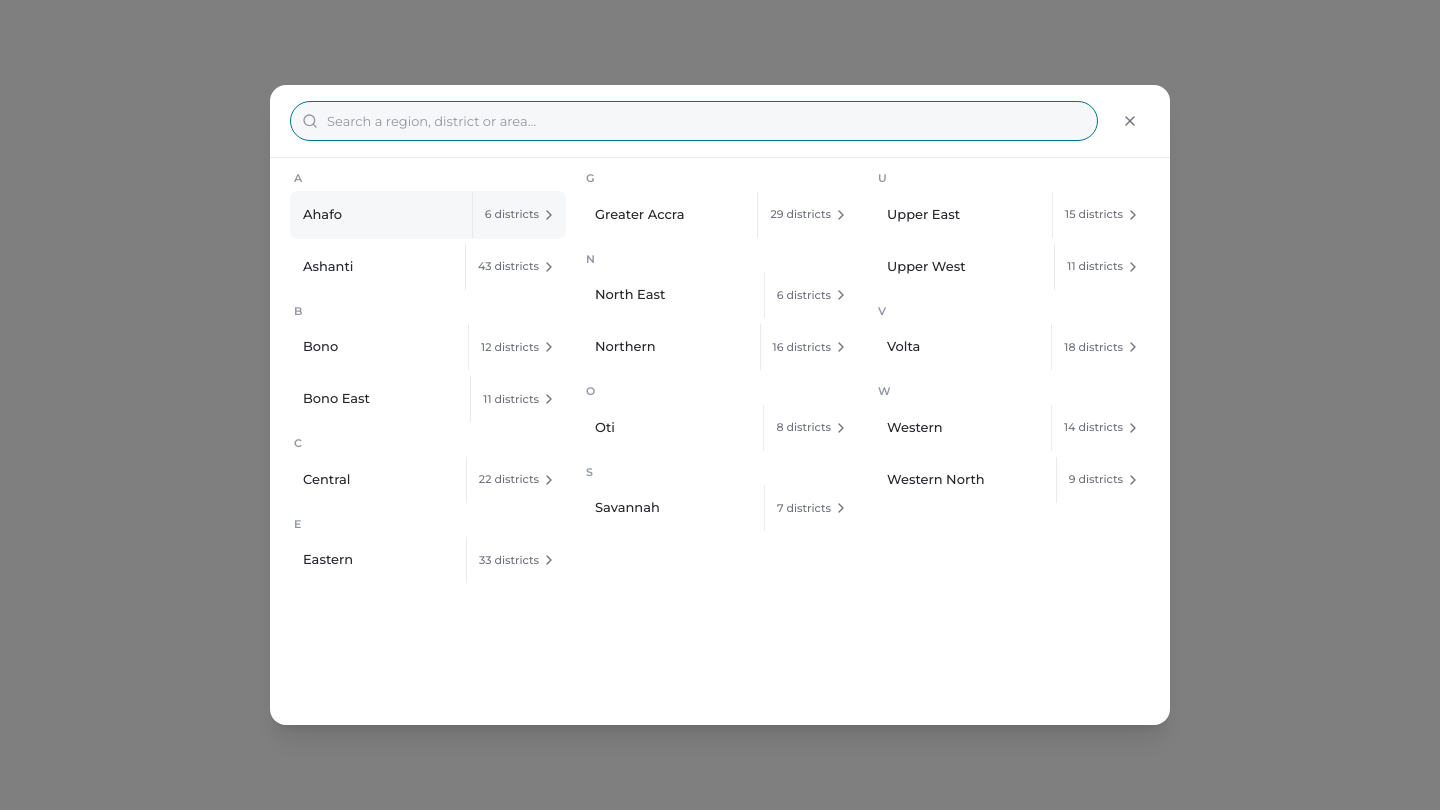
Test: LocationPicker — browsing inside a place › the district count browses in without selecting anything
Click the button with test id "location-browse-GH07" at (807, 214), box x1=757 y1=192 x2=857 y2=238
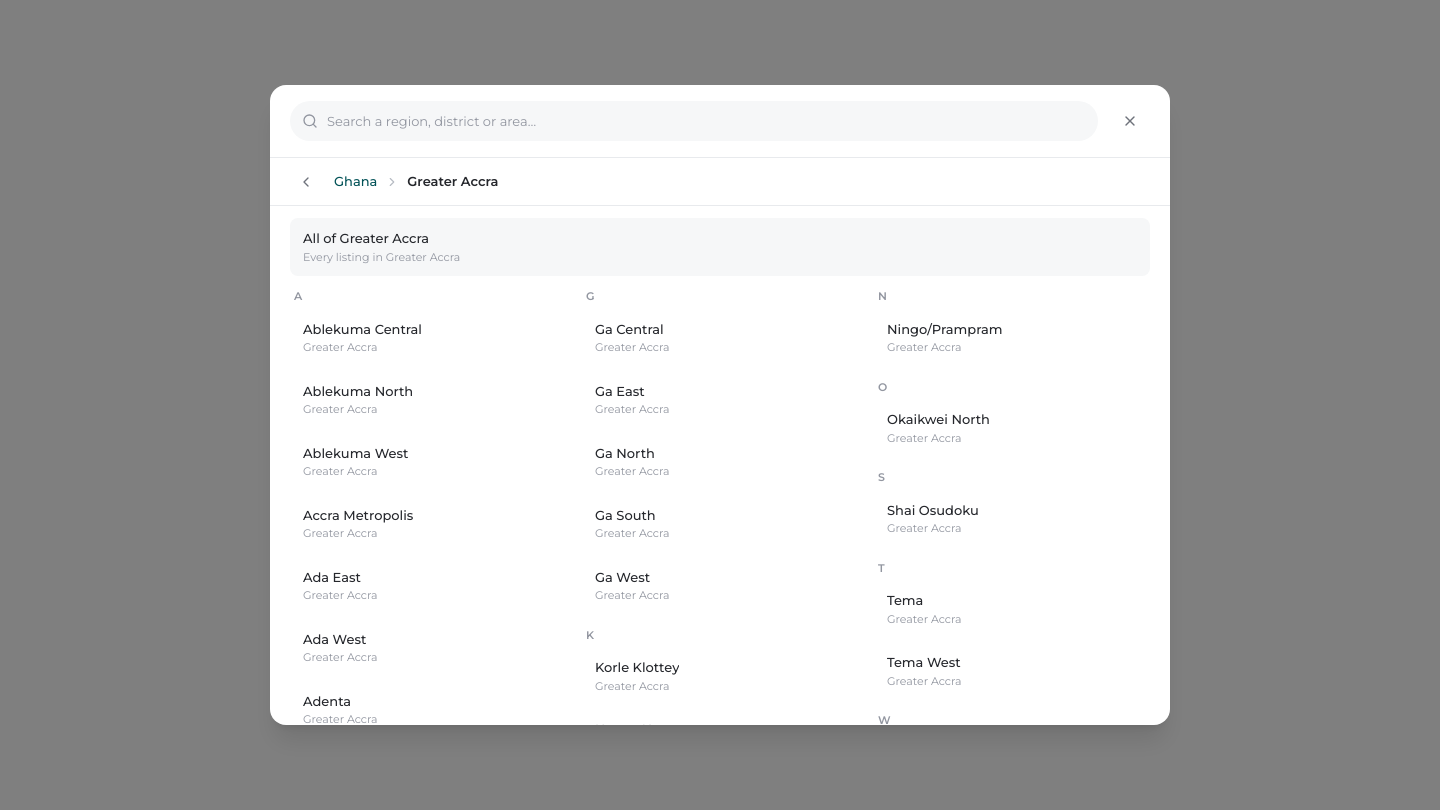
Check: the navigation bar named "Location breadcrumb" reads "Ghana Greater Accra", box x1=270 y1=158 x2=1170 y2=206
Check: the option "All of Greater Accra Every listing in Greater Accra" is shown, box x1=291 y1=219 x2=1149 y2=275
